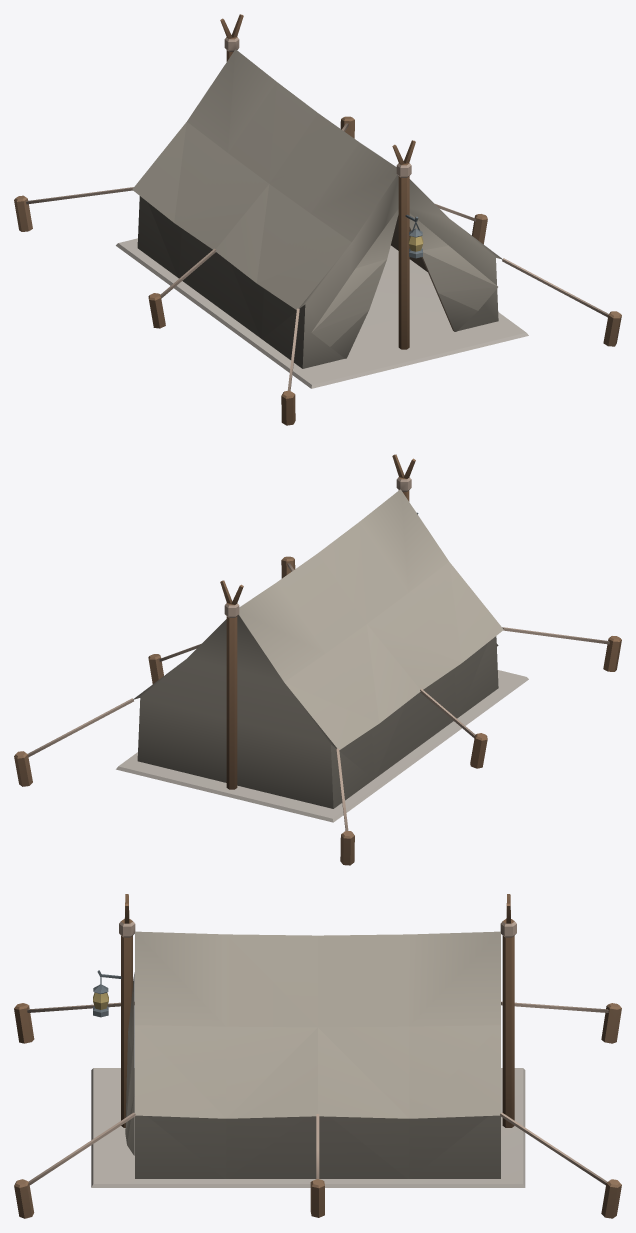
Rendered from tent.glb.
3 renders of one model, top to bottom at view 1: azimuth 30°, elevation 25°; view 2: azimuth 150°, elevation 25°; view 3: azimuth 270°, elevation 25°, orthographic. The views are drawn at different scales.
Visible parts, largest first — view 1: tent.001; view 2: tent.001; view 3: tent.001.
Boxes of the visible parts, x1,y1,x2,y2 form: tent.001: [14, 14, 621, 425]; tent.001: [14, 454, 621, 865]; tent.001: [14, 894, 621, 1218].
Bounding box in the file's own units: 3.73 × 2.19 × 5.23.
